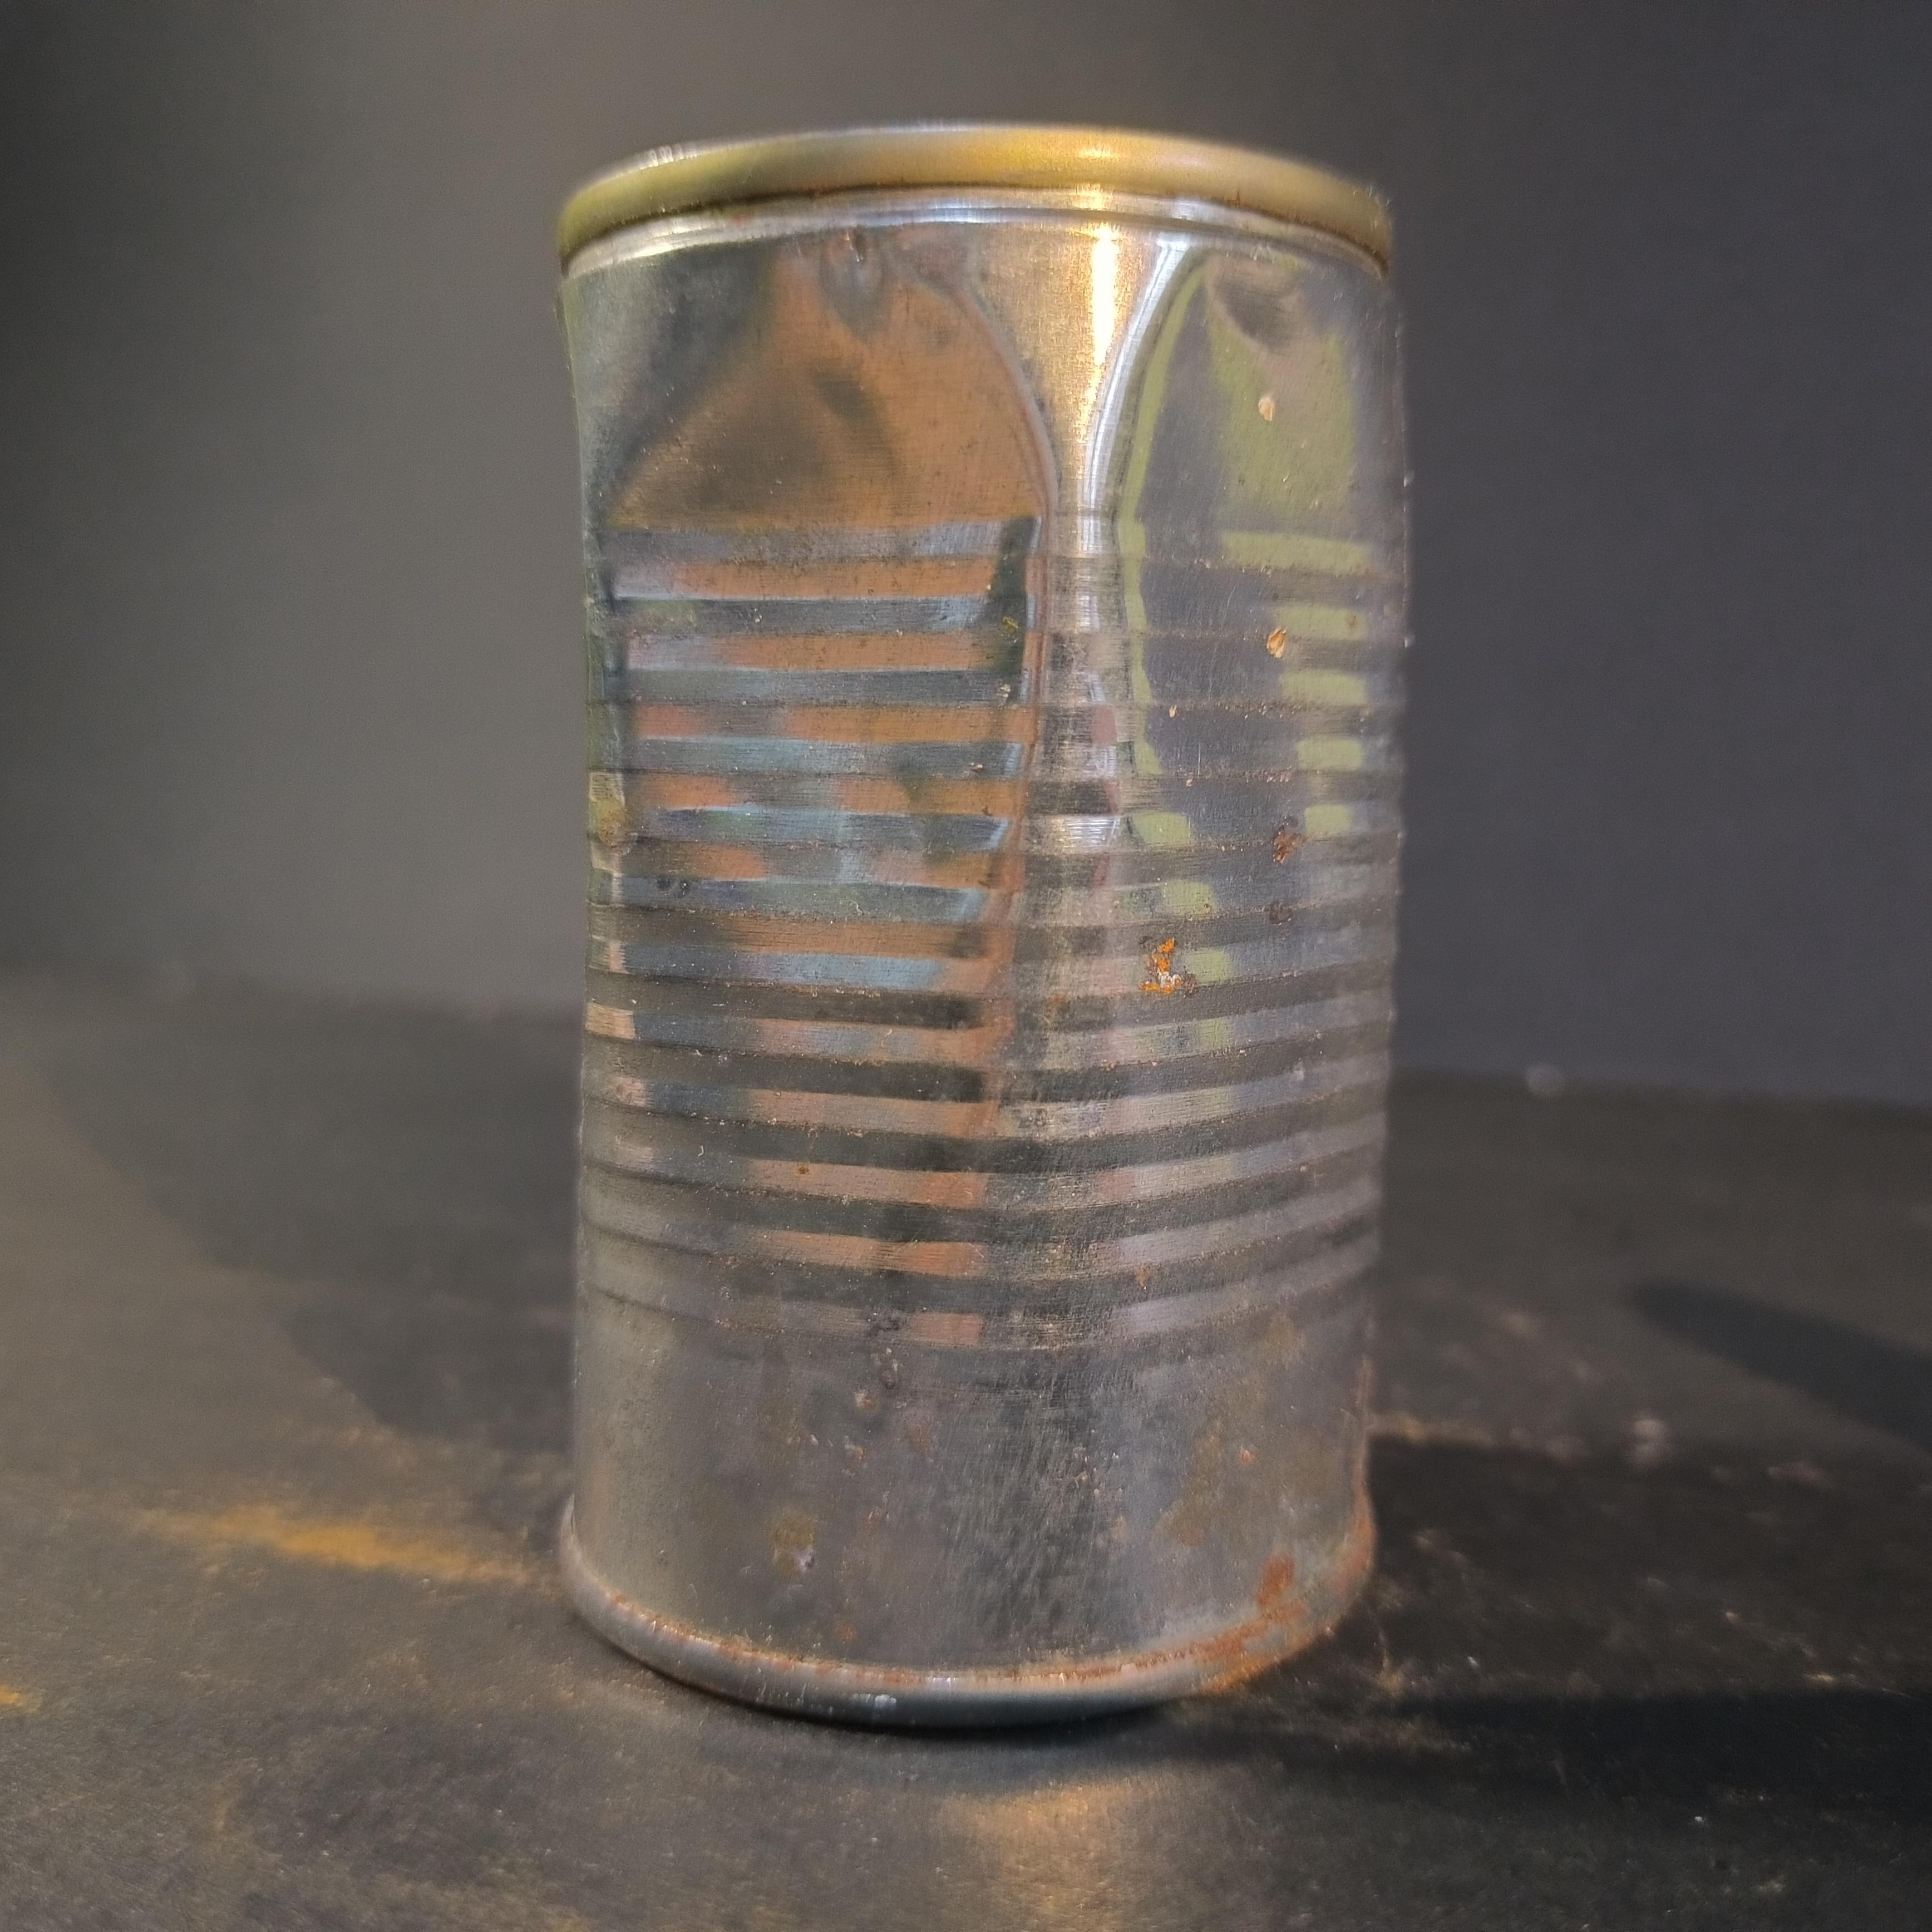Dented: (511, 42, 1438, 1716)
